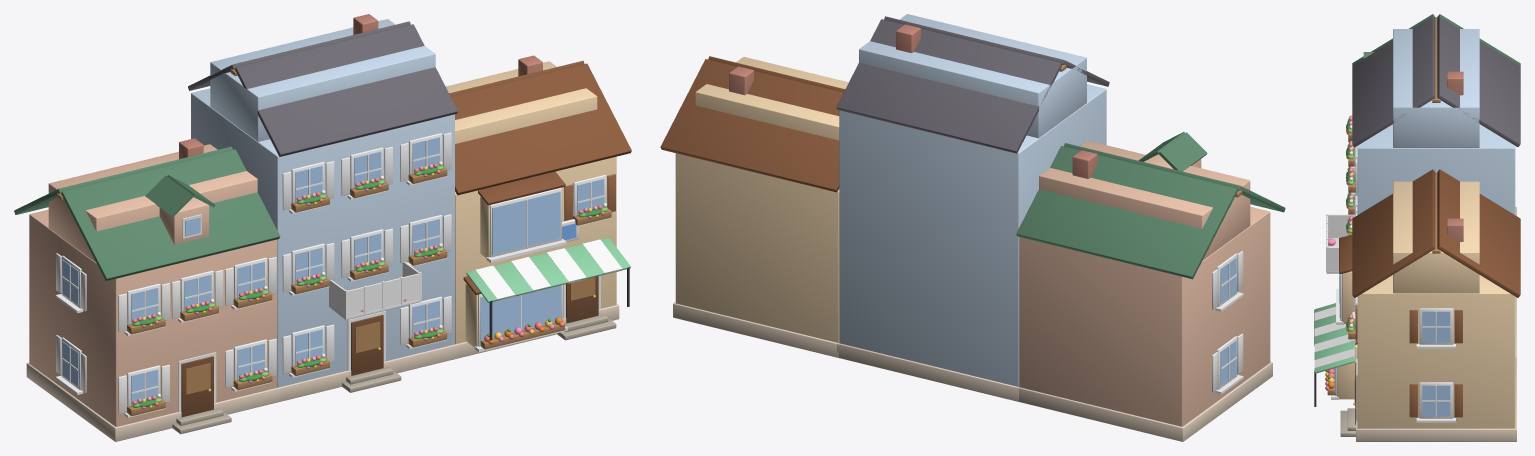
File: terrace_b.glb
3 views of the same model, side by side, from view 1: azimuth 30°, elevation 25°; view 2: azimuth 150°, elevation 25°; view 3: azimuth 270°, elevation 25° (orthographic). The views are drawn at different scales.
Parts seen in each view (by area): view 1: terrace_b; view 2: terrace_b; view 3: terrace_b.
Boxes of the visible parts, box(x1,y1,x2,y2) form: terrace_b: box(14, 14, 631, 441); terrace_b: box(660, 14, 1285, 441); terrace_b: box(1314, 14, 1520, 441).
Size of the model in its own units: 19.6 by 10.95 by 7.32.
